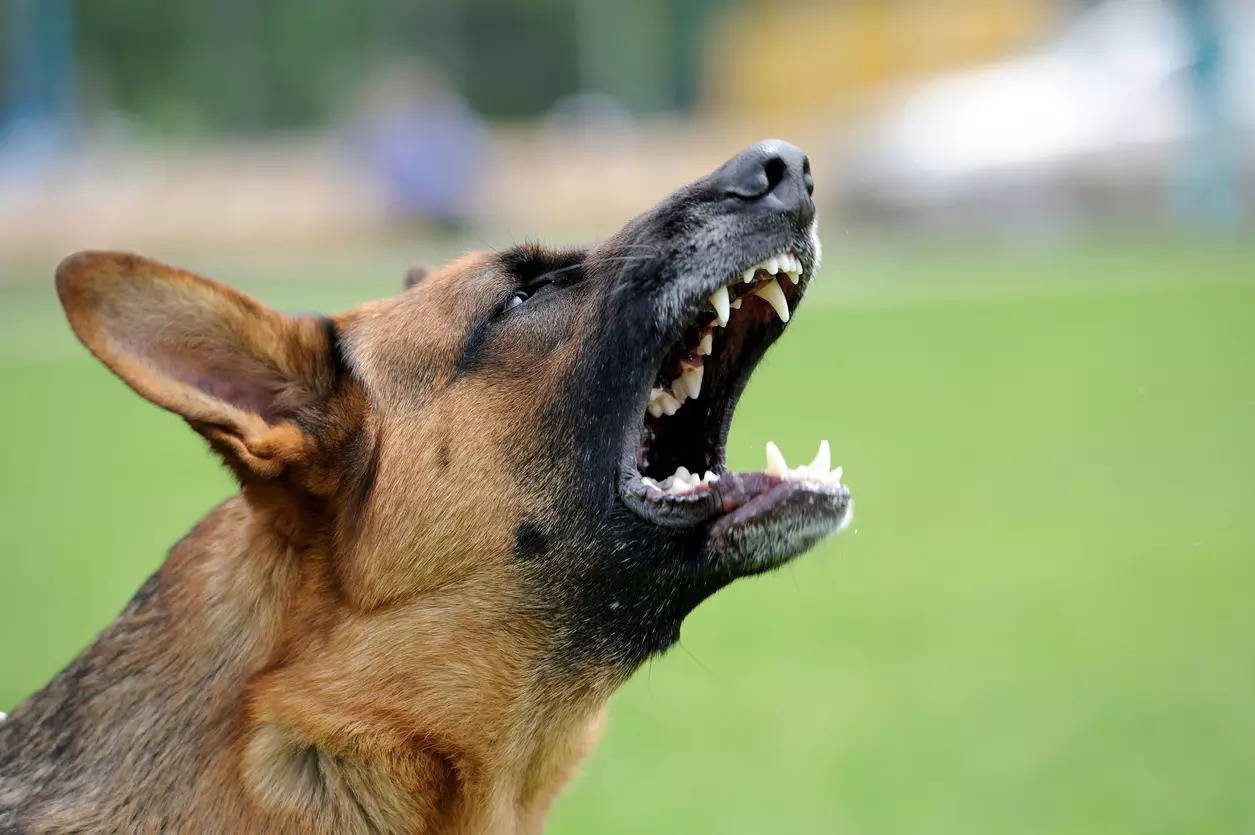dog: (87, 147, 901, 644)
